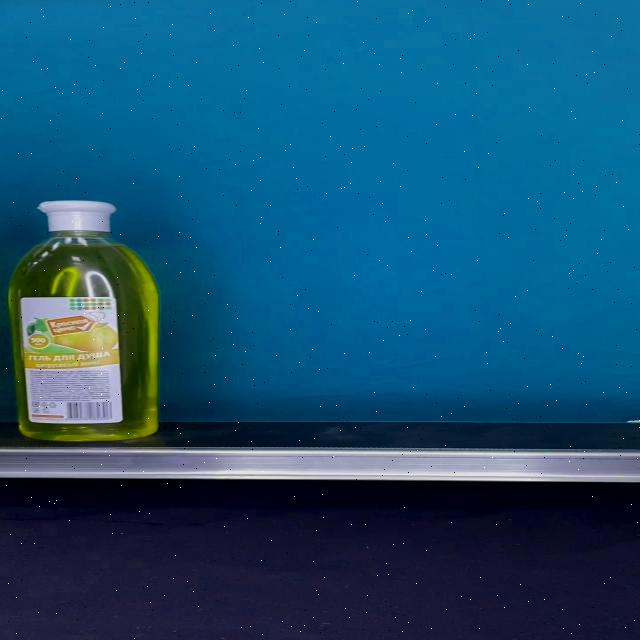Bottle: (8, 200, 158, 441)
Cap: (36, 200, 116, 232)
